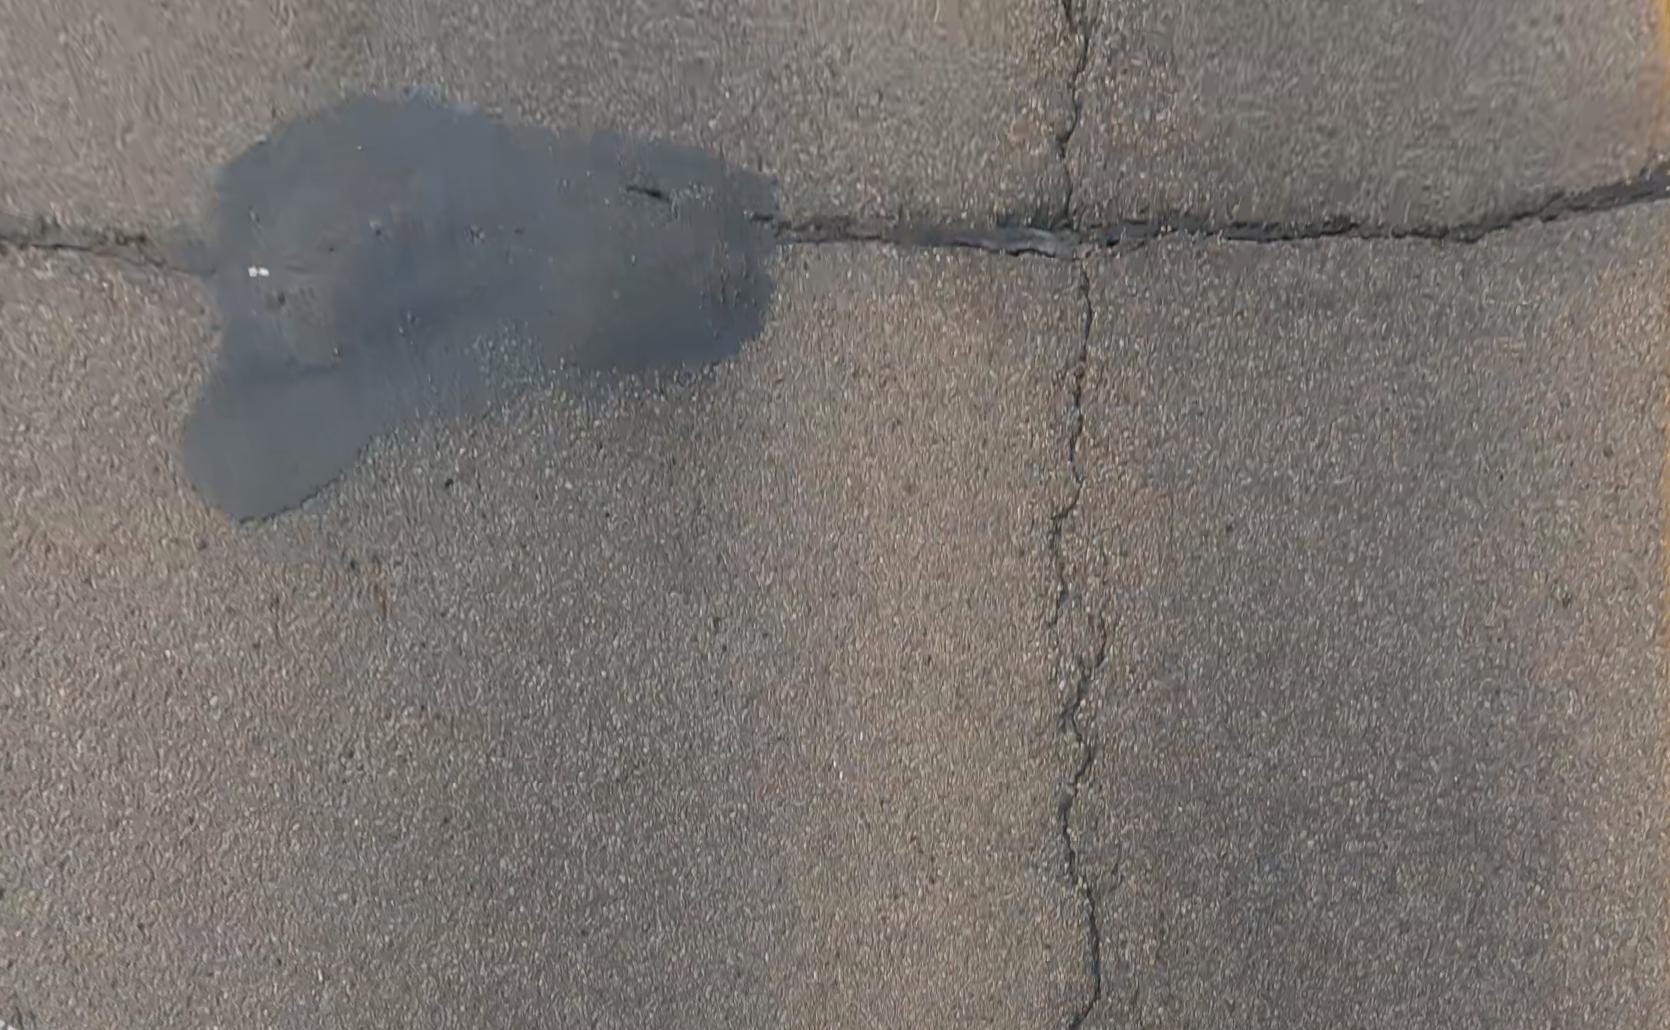pothole_patch_good: (183, 91, 777, 518)
